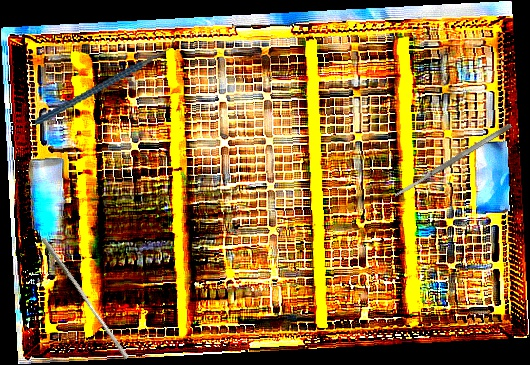Chopper: (24, 35, 187, 125)
Pusher: (36, 236, 134, 361)
Spatula Surgical: (392, 122, 514, 199)
